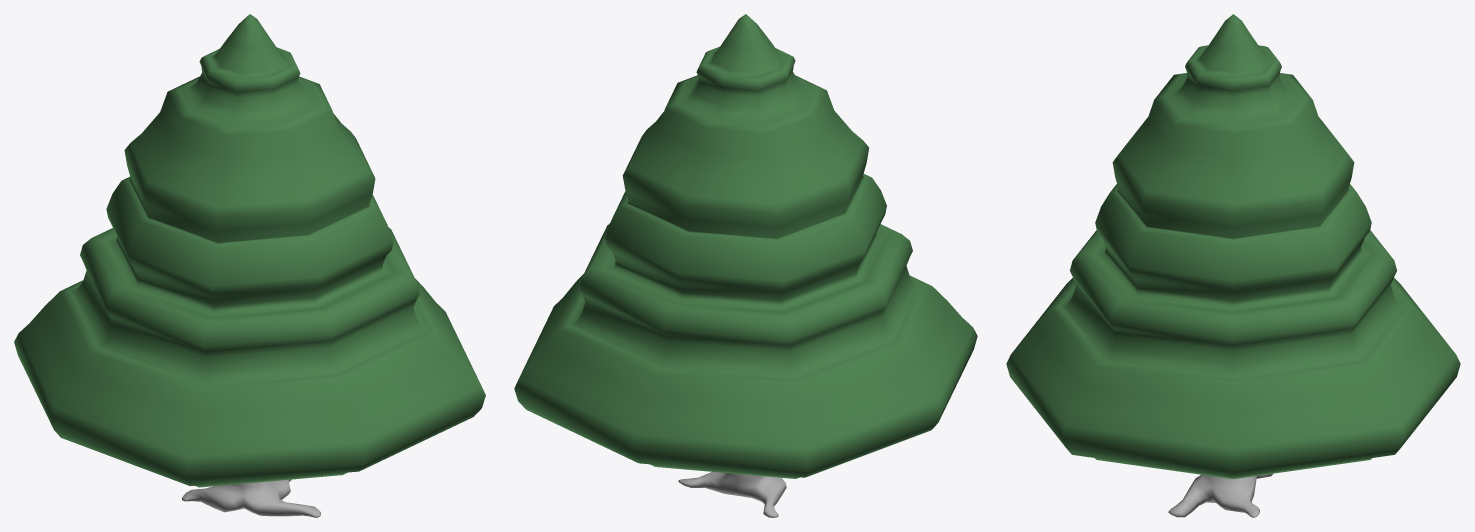
The model's file is fir_tree_attempot_UGLY_AS_UCK.fbx.
3 views of the same model, side by side, from view 1: azimuth 30°, elevation 25°; view 2: azimuth 150°, elevation 25°; view 3: azimuth 270°, elevation 25° (orthographic).
Parts seen in each view (by area): view 1: pCube3; view 2: pCube3; view 3: pCube3.
Part boxes in pixels (<box>): pCube3: <box>14,14,485,517</box>; pCube3: <box>514,14,977,517</box>; pCube3: <box>1006,14,1460,517</box>.
Size of the model in its own units: 22.33 by 26.3 by 22.33.
